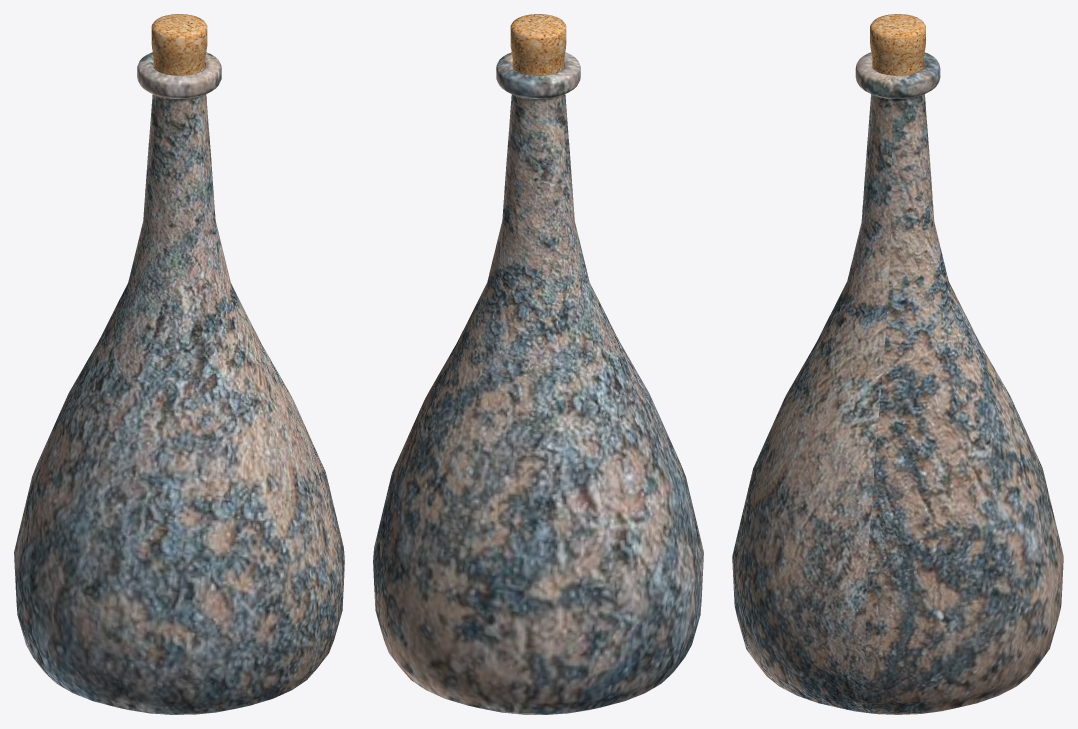
Rendered from Annointing_Oil.fbx.
3 views of the same model, side by side, from view 1: azimuth 30°, elevation 25°; view 2: azimuth 150°, elevation 25°; view 3: azimuth 270°, elevation 25° (orthographic).
Visible parts, largest first — view 1: Annointing_Oil.001, Annointing_Oil; view 2: Annointing_Oil.001, Annointing_Oil; view 3: Annointing_Oil.001, Annointing_Oil.
Boxes of the visible parts, bbox=[...] form: Annointing_Oil.001: bbox=[14, 52, 344, 714]; Annointing_Oil: bbox=[151, 14, 207, 75]; Annointing_Oil.001: bbox=[373, 52, 703, 714]; Annointing_Oil: bbox=[510, 14, 566, 75]; Annointing_Oil.001: bbox=[732, 52, 1063, 714]; Annointing_Oil: bbox=[870, 14, 925, 75].
Size of the model in its own units: 1537 by 3343 by 1537.
